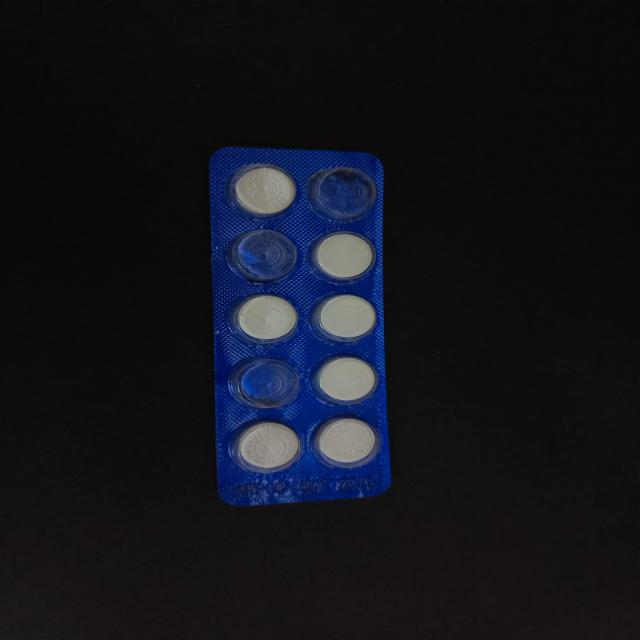defect: (303, 162, 380, 223), (224, 226, 302, 286), (223, 352, 302, 411)
